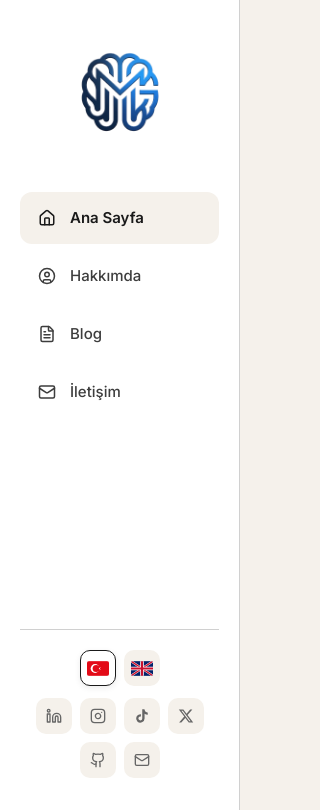
Test case: Sidebar › language switcher › switches to English when EN button clicked
Click the button titled "English". click: (142, 668)
box: [124,650,160,686]
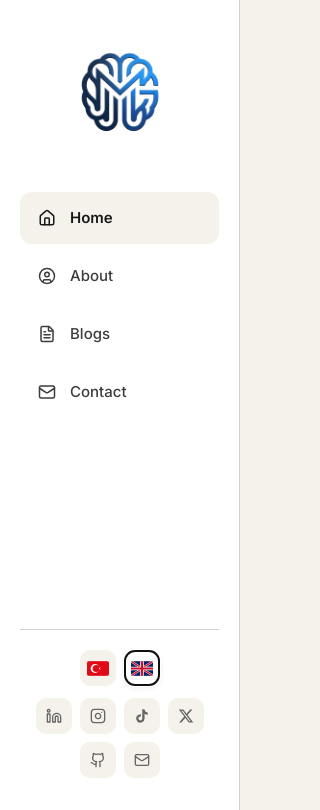
Now the text "Home" is shown, box [70,206,113,230]
